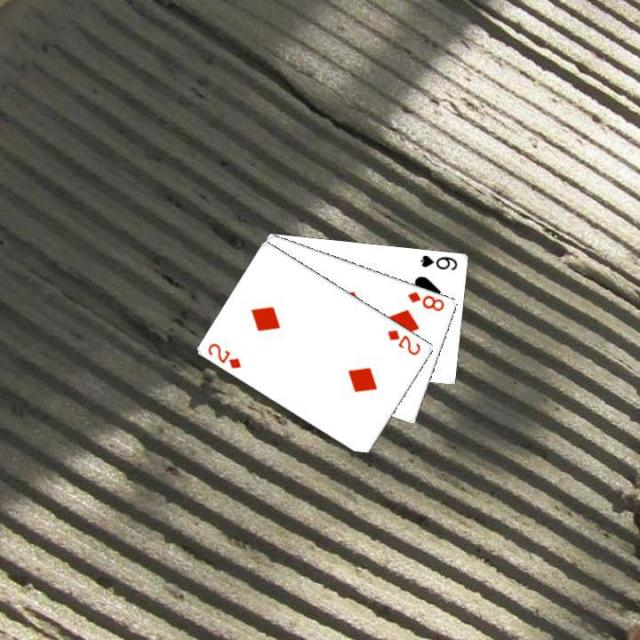2D: (204, 338, 243, 371), (384, 326, 423, 358)
6S: (416, 251, 460, 272)
8D: (404, 287, 446, 313)
